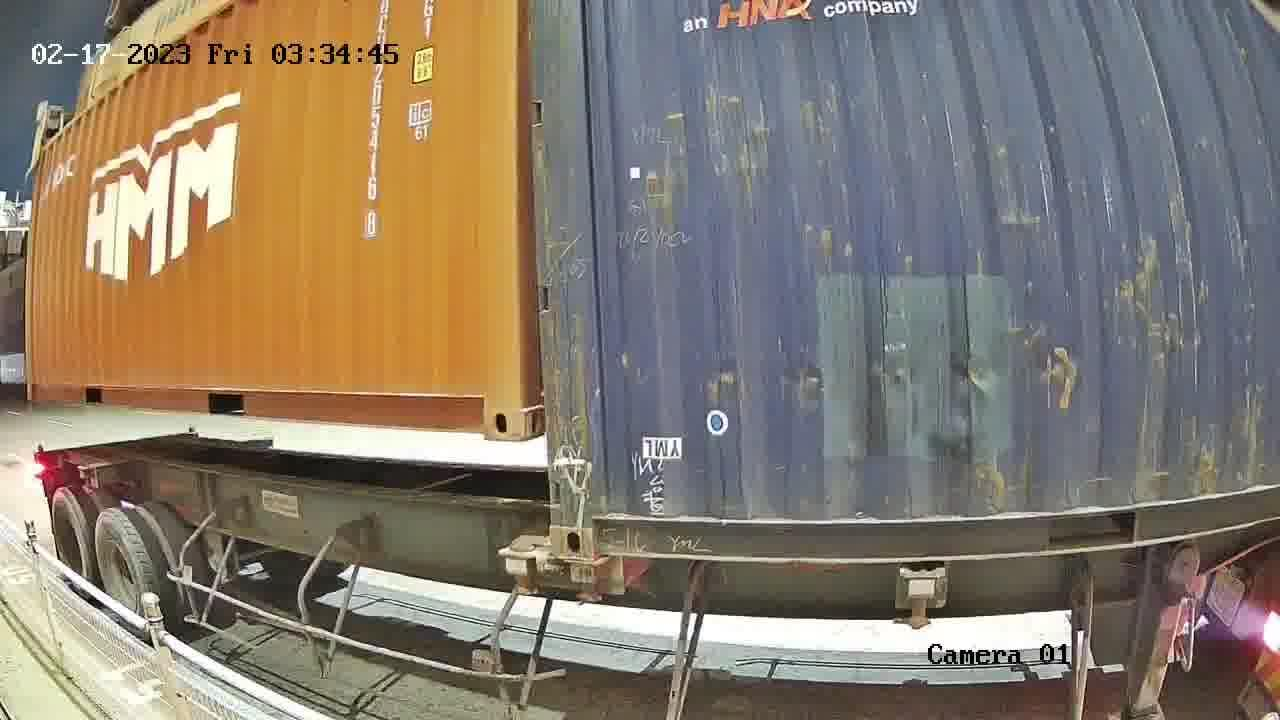Cone: (499, 534, 538, 597), (566, 558, 603, 607)
Hole_L: (549, 488, 627, 558)
Hole_R: (451, 377, 523, 442)
Tire: (96, 511, 152, 631), (51, 492, 95, 592)
